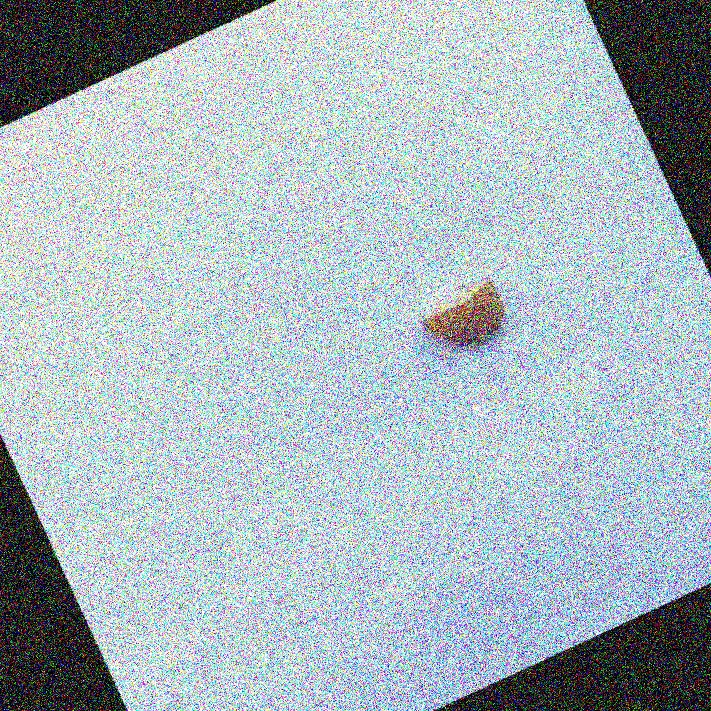grade4: (403, 266, 524, 371)
